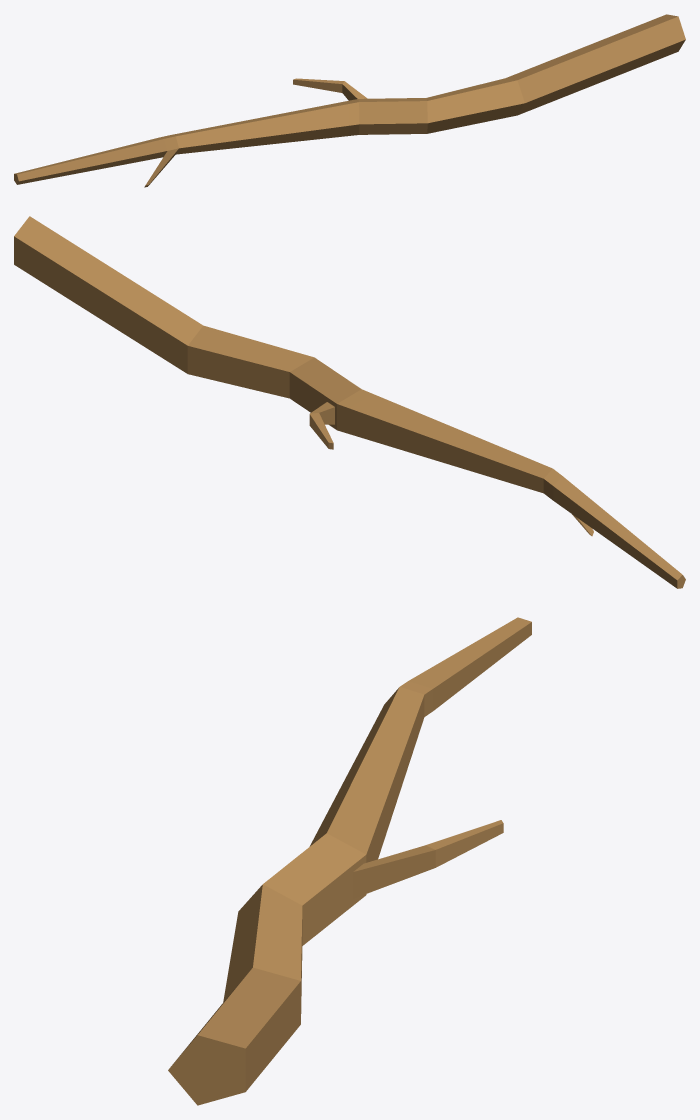
File: stick.glb
The picture shows the model from 3 angles, top to bottom: view 1: azimuth 30°, elevation 25°; view 2: azimuth 150°, elevation 25°; view 3: azimuth 270°, elevation 25°; orthographic projection. The views are drawn at different scales.
Parts seen in each view (by area): view 1: baton.001; view 2: baton.001; view 3: baton.001.
Part boxes in pixels (x1,y1,x2,y2): baton.001: [14, 14, 685, 187]; baton.001: [14, 216, 685, 588]; baton.001: [168, 617, 531, 1105].
Size of the model in its own units: 0.6909 by 0.103 by 0.1873.
